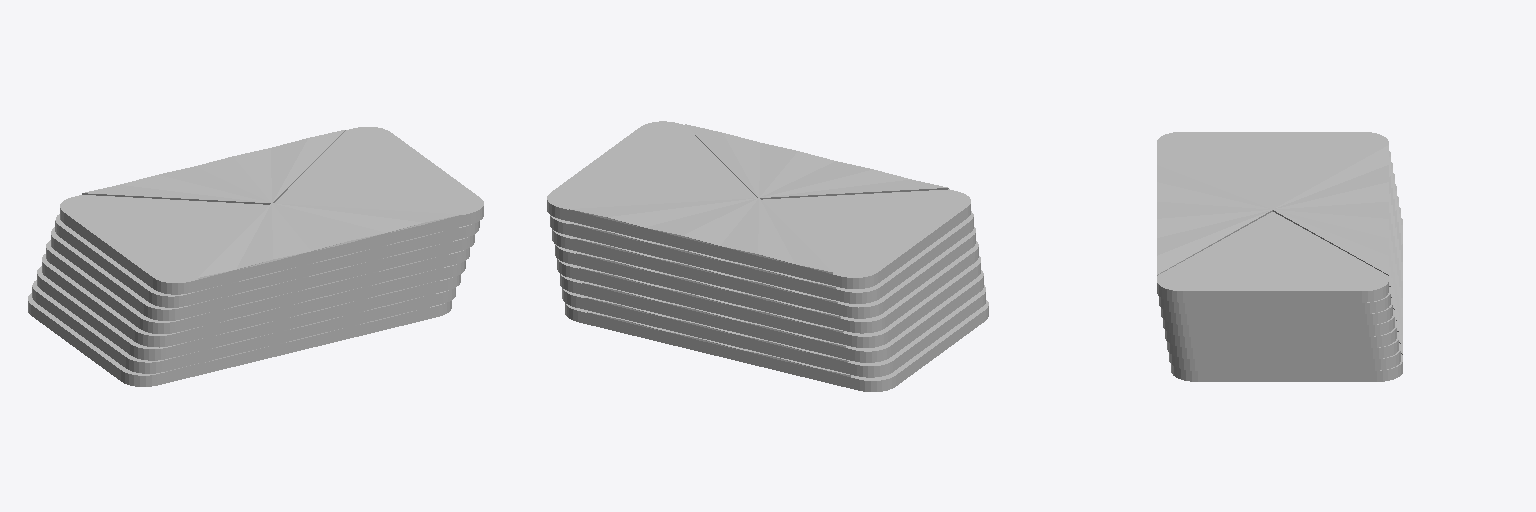
File: card_deck.obj
The picture shows the model from 3 angles: view 1: azimuth 30°, elevation 25°; view 2: azimuth 150°, elevation 25°; view 3: azimuth 270°, elevation 25°; orthographic projection.
Visible parts, largest first — view 1: card_deck; view 2: card_deck; view 3: card_deck.
Part boxes in pixels (left/top/right/bottom): card_deck: left=28, top=127, right=483, bottom=386; card_deck: left=547, top=121, right=988, bottom=391; card_deck: left=1157, top=132, right=1402, bottom=381.
Bounding box in the file's own units: 0.984 × 0.2793 × 0.597.